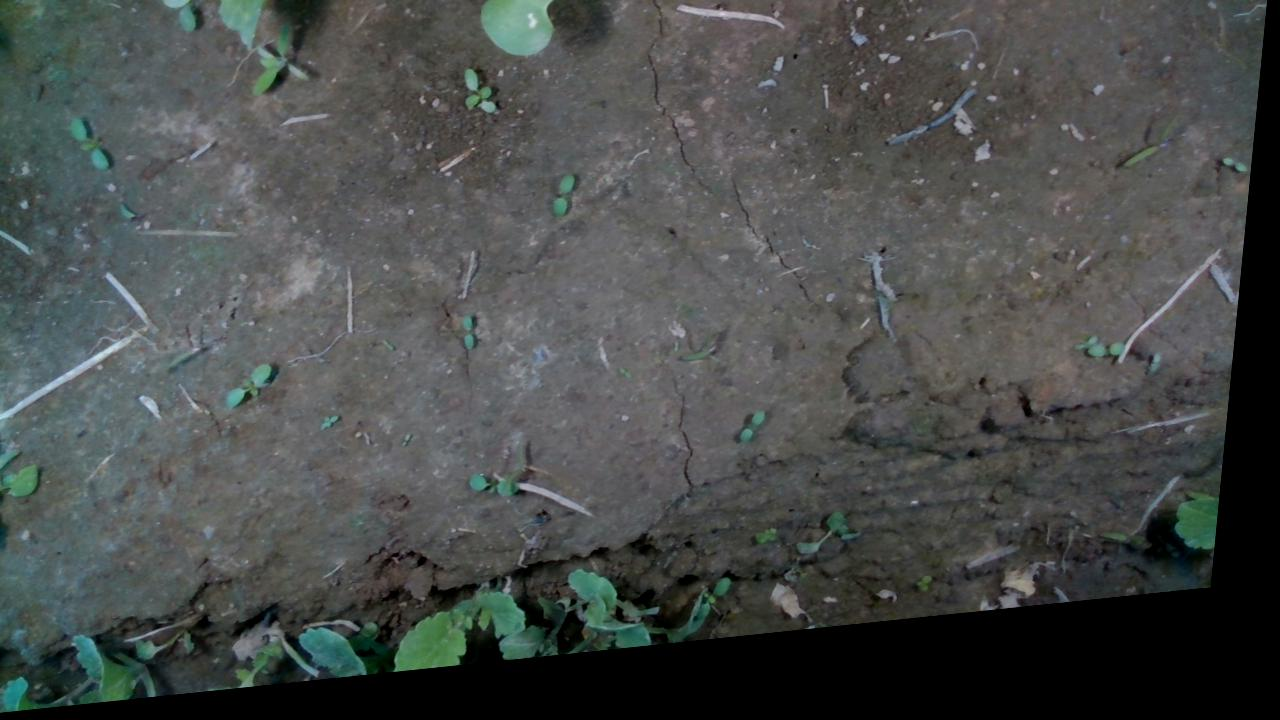weed: (66, 113, 117, 176), (461, 73, 504, 127), (232, 367, 282, 413), (745, 427, 777, 463), (555, 185, 580, 229), (464, 322, 485, 361), (1225, 181, 1254, 202), (1154, 375, 1173, 402), (326, 419, 350, 439), (927, 595, 947, 615), (1092, 0, 1129, 10), (385, 345, 403, 362), (625, 379, 641, 396), (408, 442, 422, 458)
